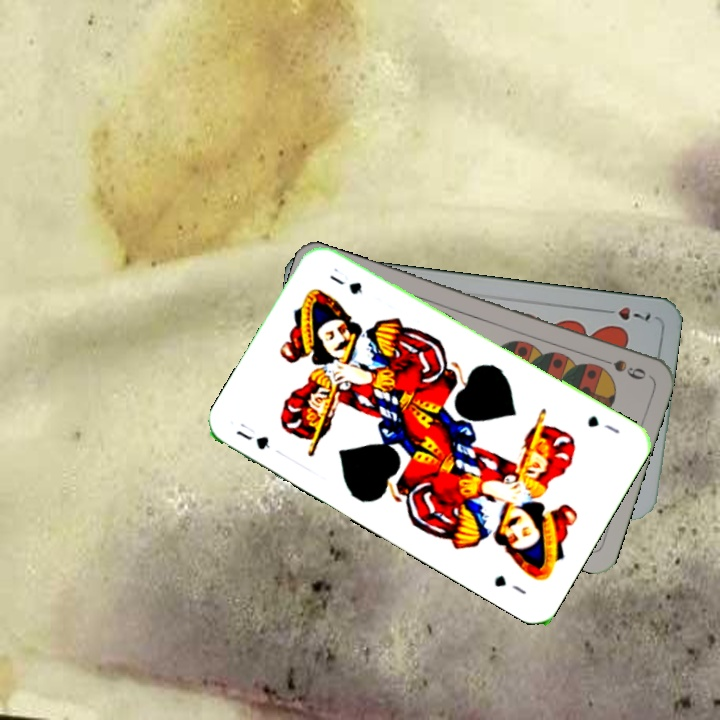GU: (232, 426, 272, 453), (583, 411, 623, 437)
H7: (597, 302, 653, 324)
S9: (593, 353, 649, 383)
